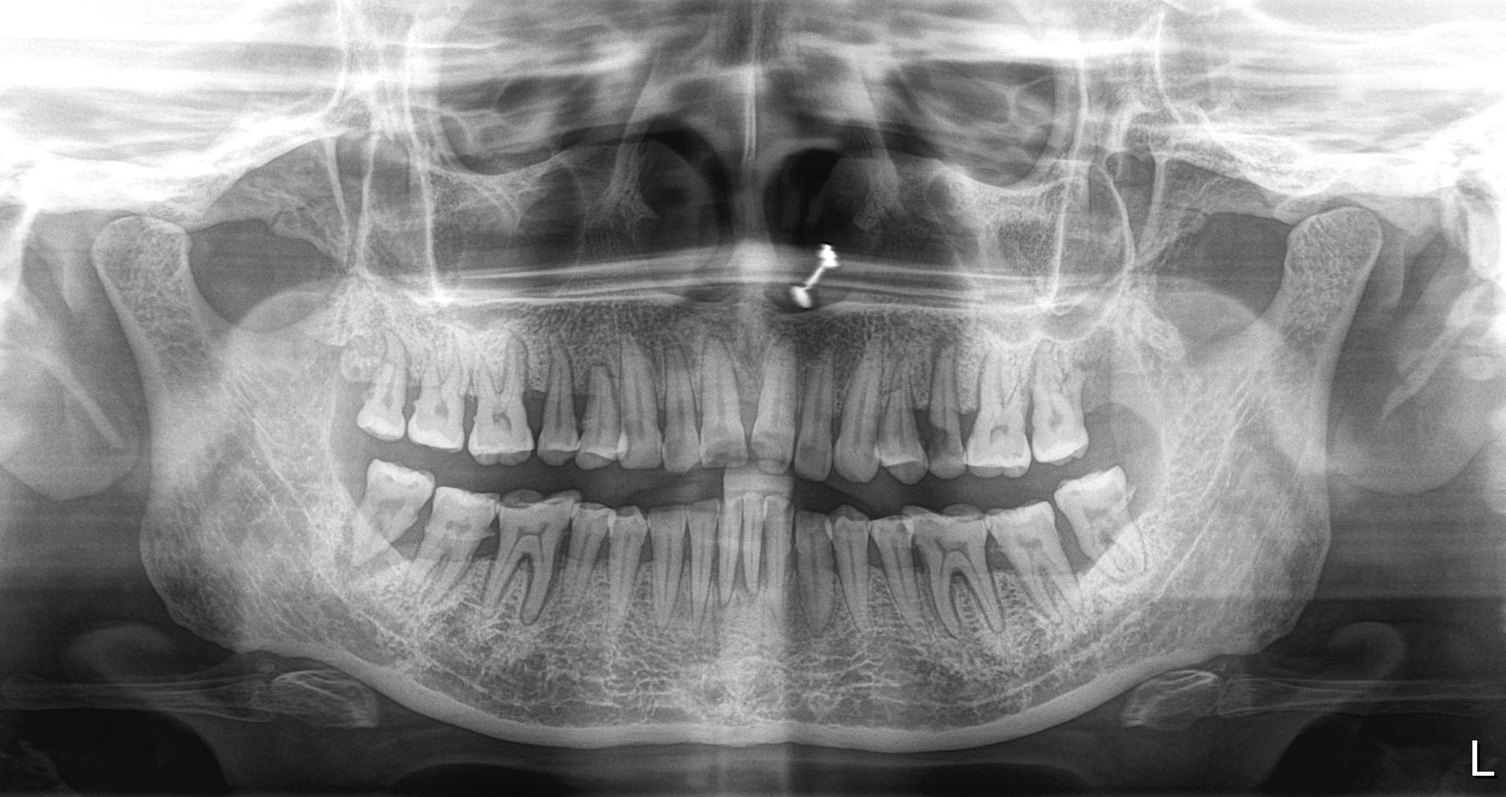Attrition: (496, 490, 583, 523)
Dental Caries: (910, 413, 957, 460)
Periapical Lesion: (335, 487, 436, 577)
